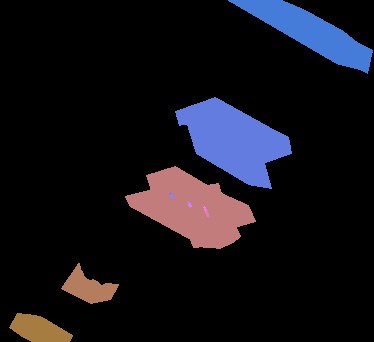parkingspot: (228, 0, 372, 73), (175, 97, 291, 163), (125, 185, 240, 248), (146, 166, 255, 230), (186, 117, 271, 188), (61, 263, 118, 303), (9, 313, 72, 342)
